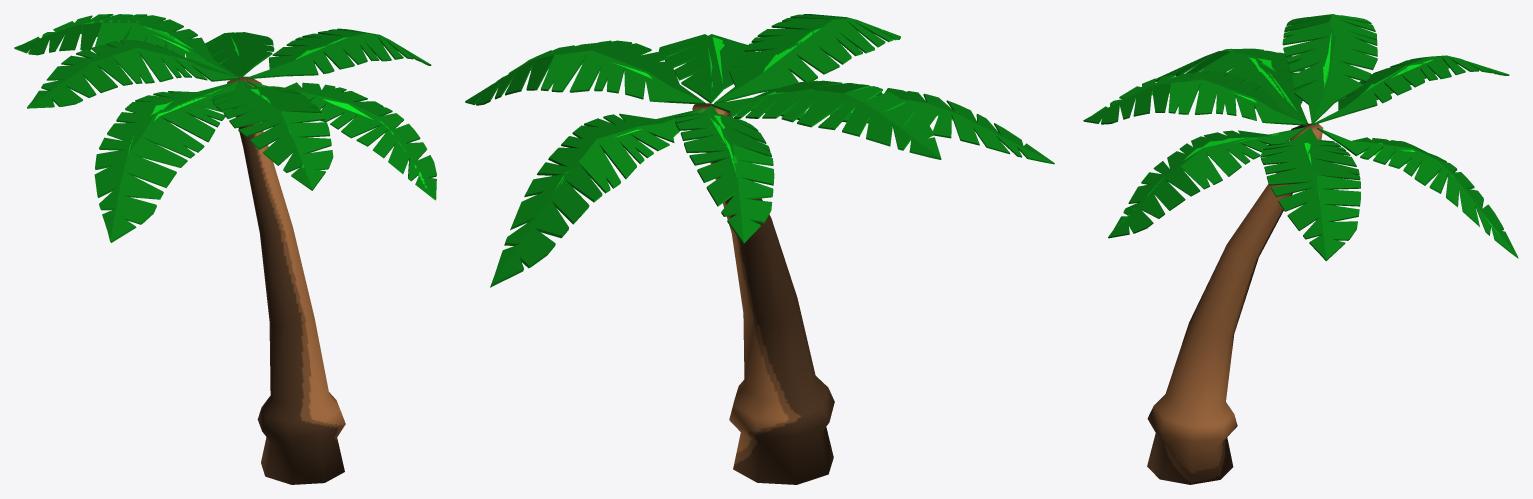
Rendered from palm_tree_1.fbx.
3 renders of one model, left to right at view 1: azimuth 30°, elevation 25°; view 2: azimuth 150°, elevation 25°; view 3: azimuth 270°, elevation 25°, orthographic. The views are drawn at different scales.
Visible parts, largest first — view 1: final_1; view 2: final_1; view 3: final_1.
Boxes of the visible parts, bbox=[...] form: final_1: bbox=[14, 14, 436, 484]; final_1: bbox=[465, 14, 1054, 484]; final_1: bbox=[1083, 14, 1518, 484].
Bounding box in the file's own units: 0.8113 × 0.7955 × 0.8683.
Materials: 1 (1 with a texture image).
